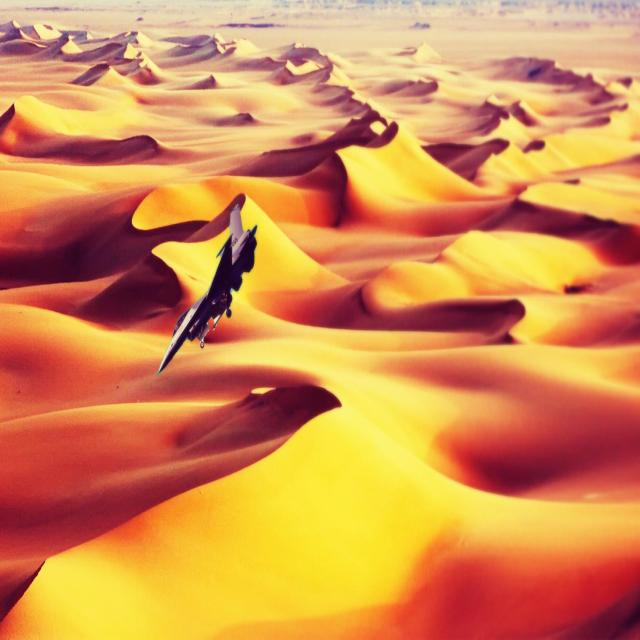airplane: (156, 199, 257, 375)
